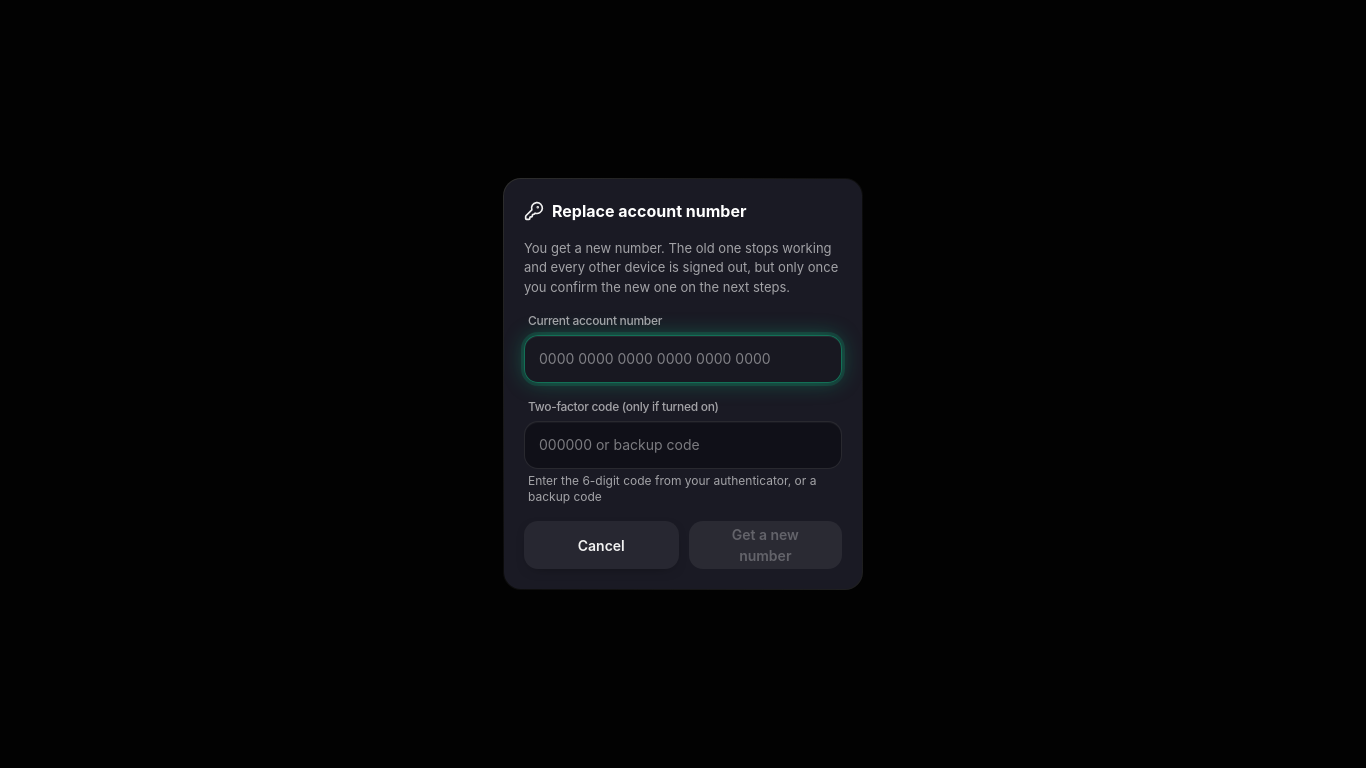
Test: replacing the number › shows the new number once, with a copy button, and Continue waits for "I've saved it"
In the field labelled "Current account number": (683, 359) [539,349,827,369], type "111122223333444455556666"
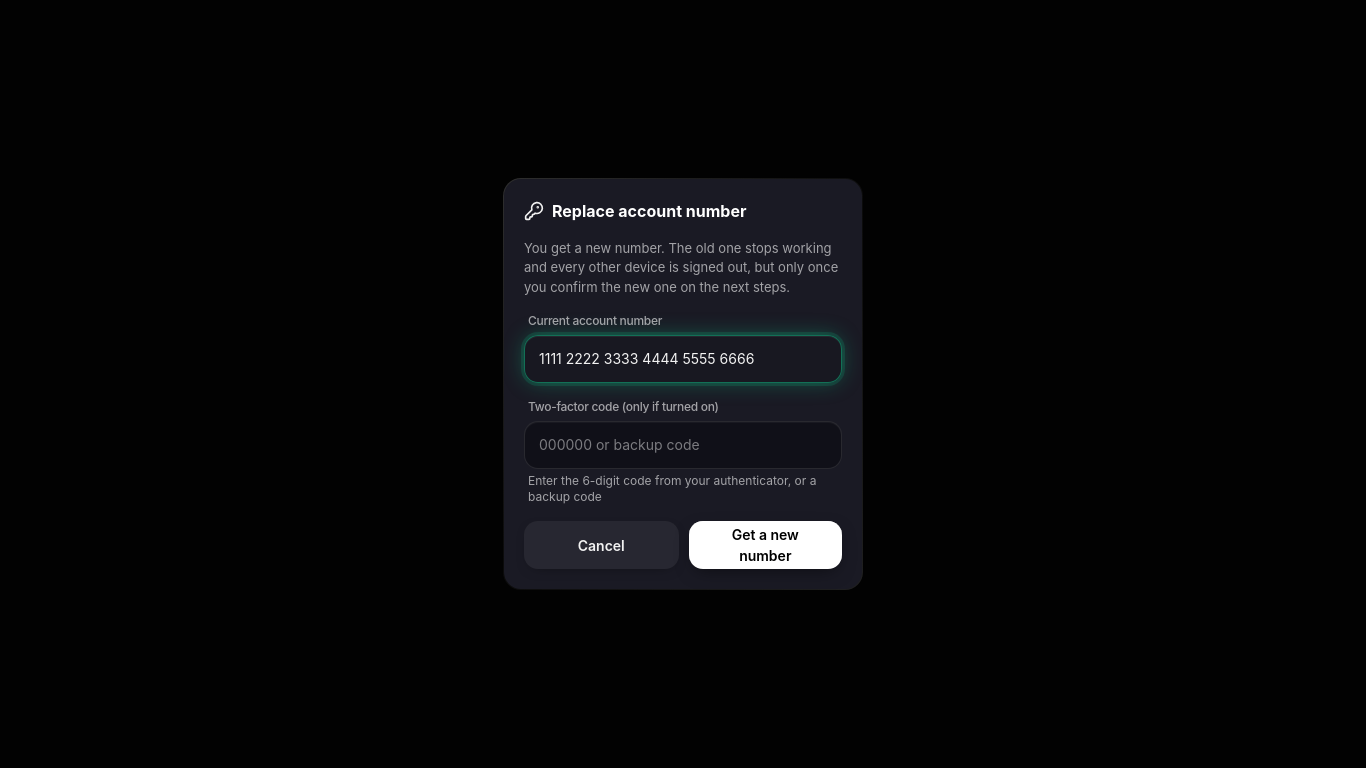
Click the button "Get a new number": (765, 545) [689,521,842,569]
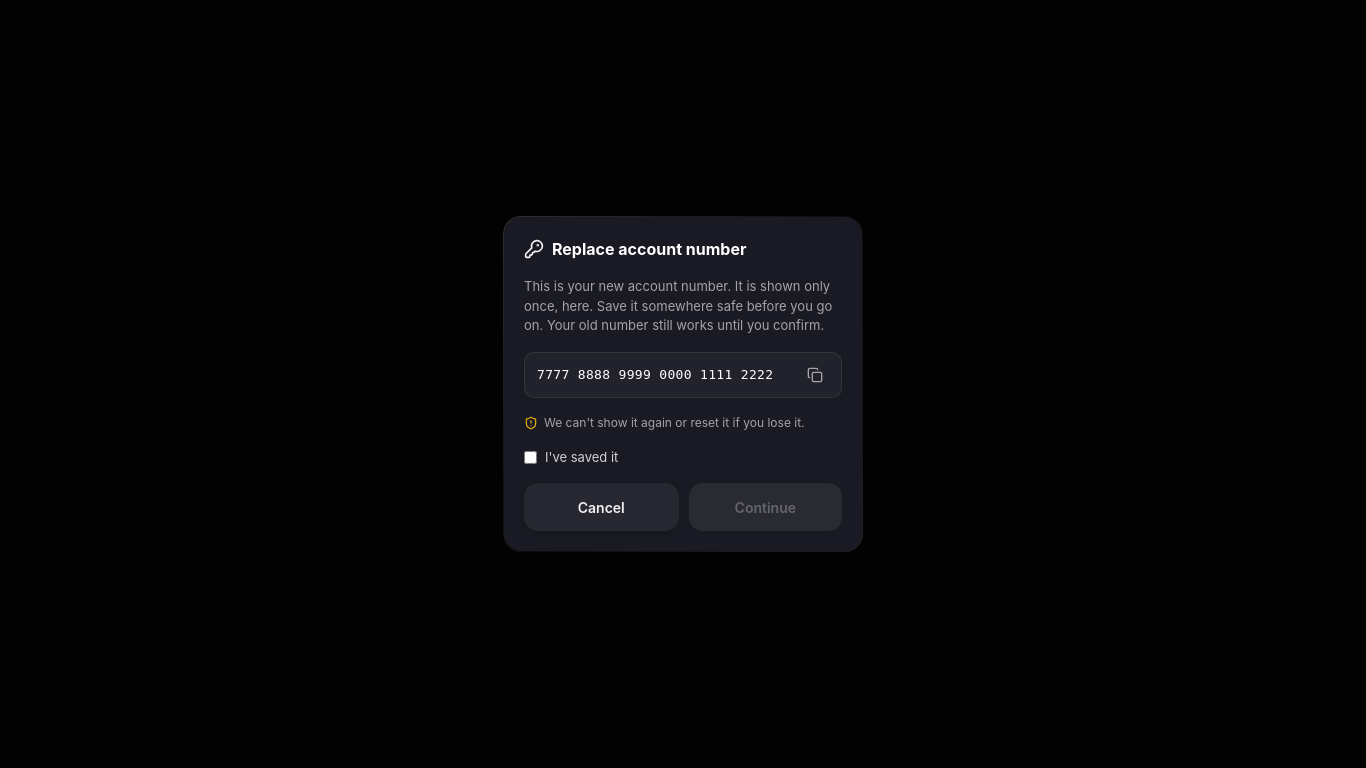
Result: the text with test id "new-account-number" reads "7777 8888 9999 0000 1111 2222" at [537,367,773,382]
Result: the button named "Copy new account number" is shown at [801,360,829,388]
Result: the button "Continue" is disabled at [689,483,842,531]
Click the checkbox labelled "I've saved it": (530, 457) [524,451,537,464]
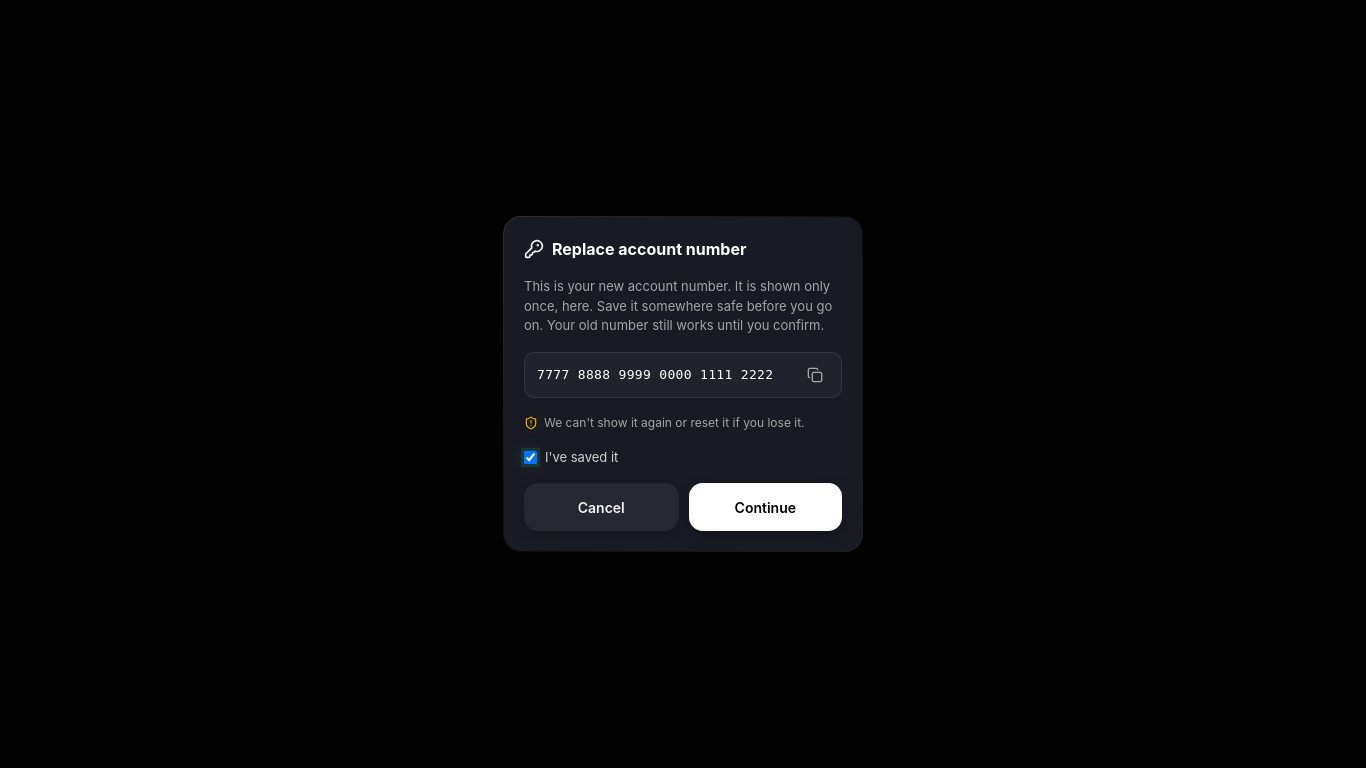
Expected: the text "1111 2222 3333 4444 5555 6666" is not shown
Result: the button "Continue" is enabled at [689,483,842,531]
